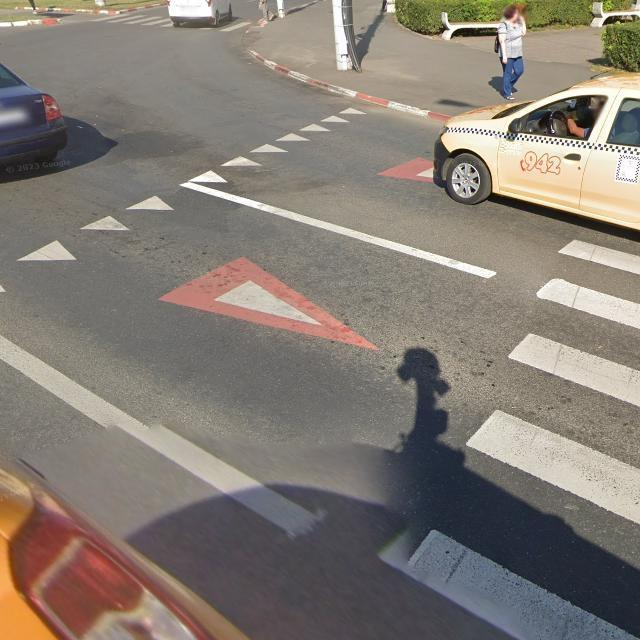prio_give_way: (152, 257, 383, 355)
